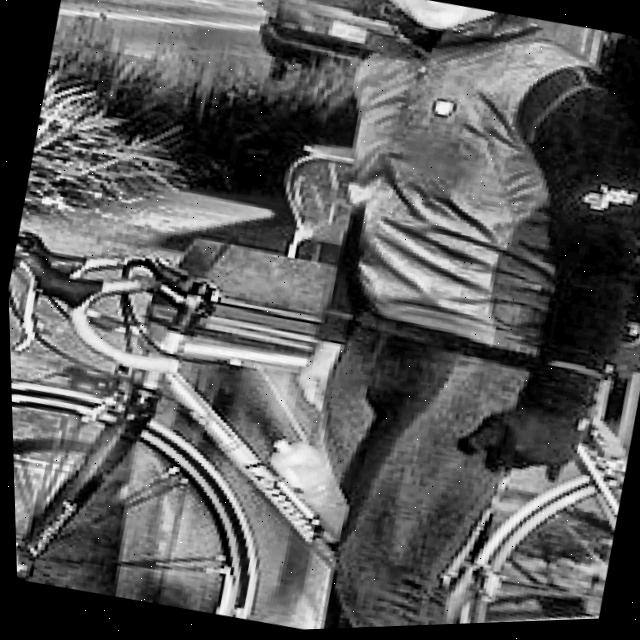light_vehicle: (246, 0, 442, 106), (262, 0, 330, 9)
